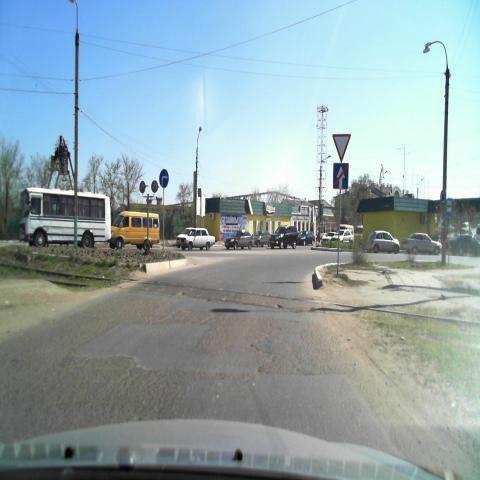4_1_2: (158, 168, 170, 189)
5_6: (330, 160, 350, 193)
